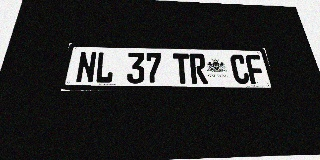3: (127, 52, 144, 84)
7: (145, 53, 162, 84)
C: (229, 54, 250, 84)
F: (245, 55, 267, 84)
L: (94, 52, 115, 83)
N: (75, 51, 97, 83)
R: (189, 53, 208, 84)
T: (173, 53, 191, 84)
